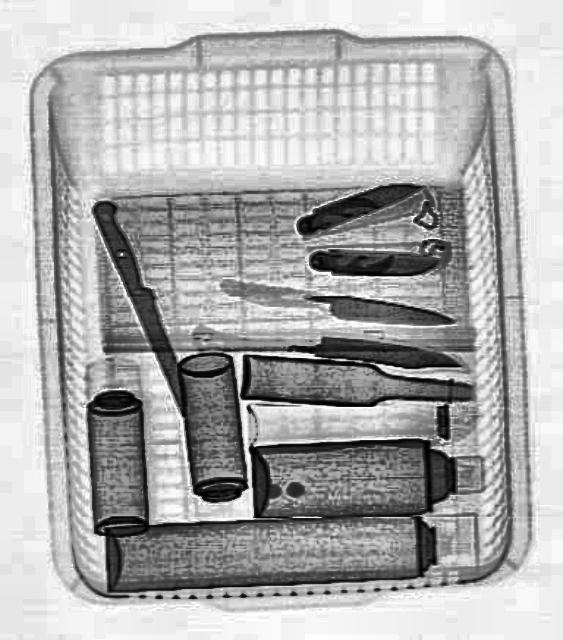Knife: (88, 194, 200, 416), (288, 166, 424, 240), (302, 288, 454, 334), (308, 332, 464, 372), (308, 245, 440, 279)
